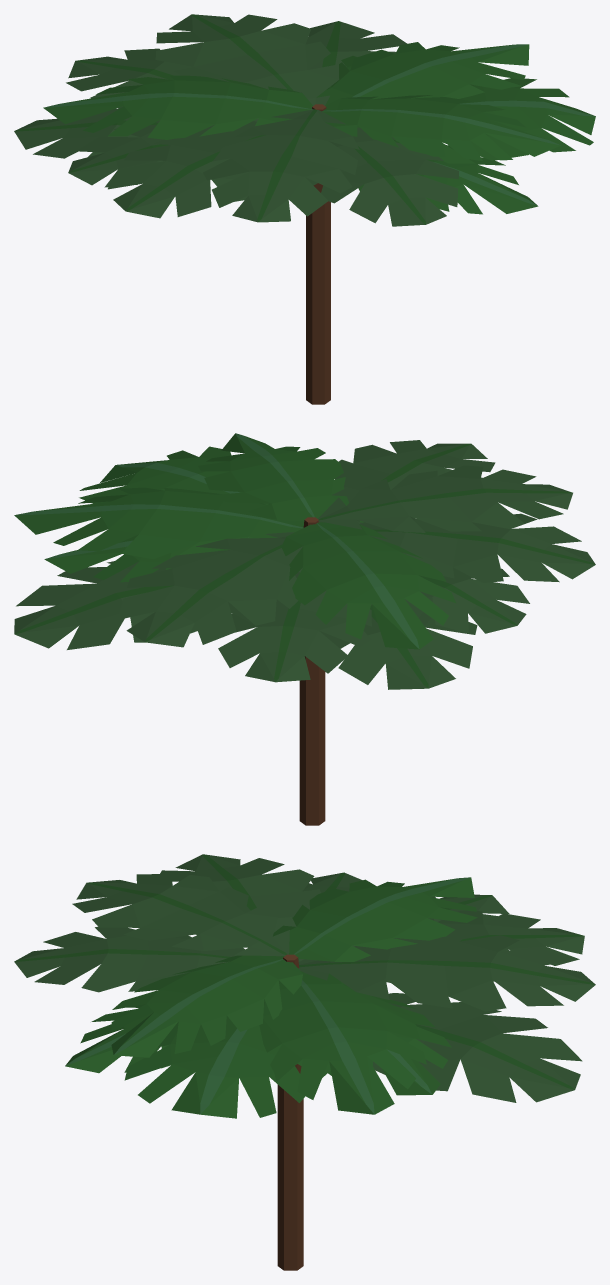
The model's file is tree2.fbx.
3 renders of one model, top to bottom at view 1: azimuth 30°, elevation 25°; view 2: azimuth 150°, elevation 25°; view 3: azimuth 270°, elevation 25°, orthographic. The views are drawn at different scales.
Visible parts, largest first — view 1: tree2; view 2: tree2; view 3: tree2.
Part boxes in pixels (x1=…): tree2: x1=14, y1=14, x2=595, y2=404; tree2: x1=14, y1=433, x2=595, y2=825; tree2: x1=14, y1=854, x2=595, y2=1270.
Bounding box in the file's own units: 573 × 339 × 565.
